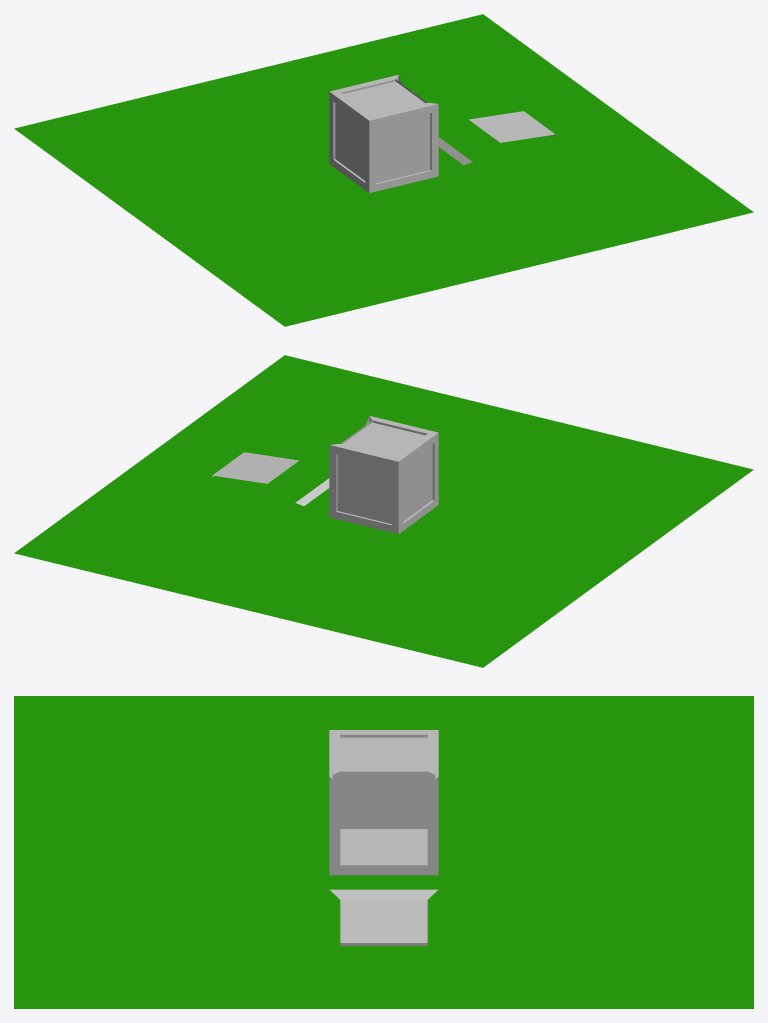
File: caixa_000111.obj
The picture shows the model from 3 angles, top to bottom: view 1: azimuth 30°, elevation 25°; view 2: azimuth 150°, elevation 25°; view 3: azimuth 270°, elevation 25°; orthographic projection. The views are drawn at different scales.
Parts seen in each view (by area): view 1: Plane, Cube_Cube.003, Cube.002_Cube.001; view 2: Plane, Cube_Cube.003, Cube.002_Cube.001; view 3: Plane, Cube_Cube.003, Cube.002_Cube.001, Cube.001_Cube.000.
Part boxes in pixels (x1,y1,x2,y2): Plane: [14, 14, 753, 326]; Cube_Cube.003: [329, 74, 438, 193]; Cube.002_Cube.001: [469, 111, 555, 142]; Plane: [14, 355, 753, 667]; Cube_Cube.003: [329, 415, 438, 534]; Cube.002_Cube.001: [212, 452, 298, 483]; Plane: [14, 696, 753, 1008]; Cube_Cube.003: [329, 730, 438, 875]; Cube.002_Cube.001: [340, 899, 427, 945]; Cube.001_Cube.000: [330, 889, 437, 899].
Size of the model in its own units: 13.55 by 2.01 by 13.55.
